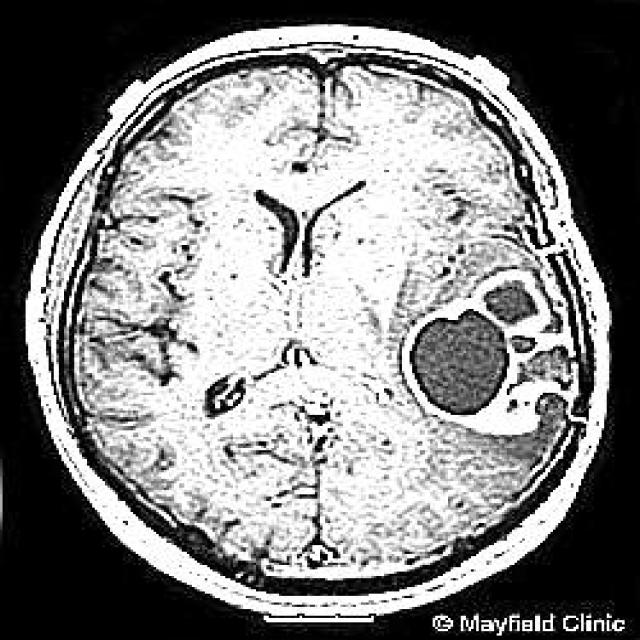Tumor-Cell: (398, 275, 557, 442)
